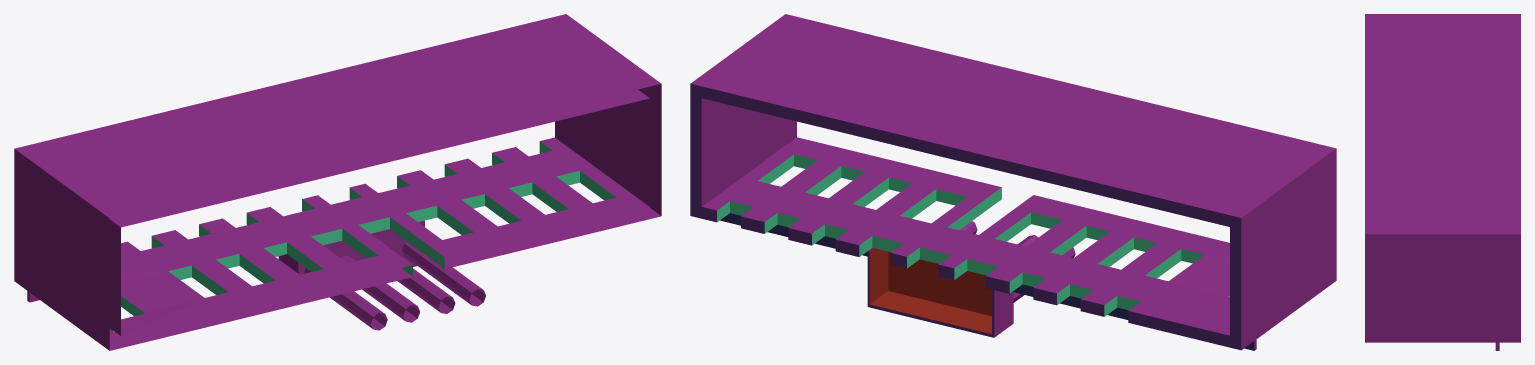
File: Willa Włodzimierza Kulczyckiego Tier 2.fbx
The picture shows the model from 3 angles, left to right: view 1: azimuth 30°, elevation 25°; view 2: azimuth 150°, elevation 25°; view 3: azimuth 270°, elevation 25°; orthographic projection. The views are drawn at different scales.
Parts seen in each view (by area): view 1: Walec_3; view 2: Walec_3; view 3: Walec_3.
Boxes of the visible parts, bbox=[...] form: Walec_3: bbox=[14, 14, 661, 350]; Walec_3: bbox=[690, 14, 1336, 350]; Walec_3: bbox=[1365, 14, 1520, 350].
Size of the model in its own units: 3.97 by 1.31 by 1.19.
